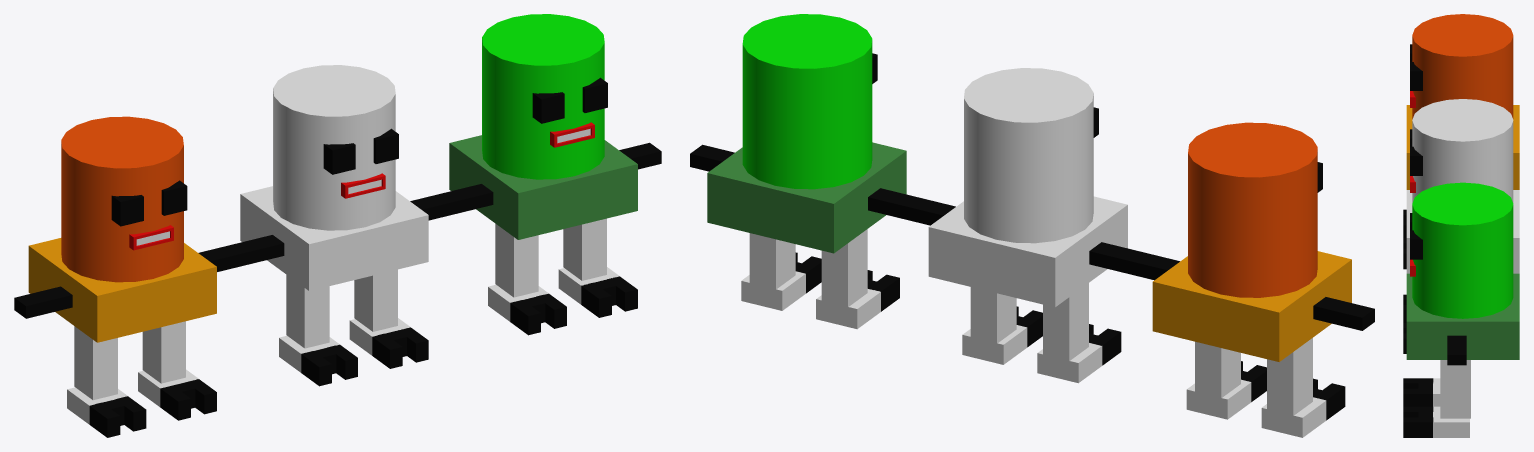
The picture shows the model from 3 angles, left to right: view 1: azimuth 30°, elevation 25°; view 2: azimuth 150°, elevation 25°; view 3: azimuth 270°, elevation 25°; orthographic projection. The views are drawn at different scales.
Parts seen in each view (by area): view 1: pCylinder74, pCylinder75, pCylinder54, pCube2473, pCube2489, pCube275, pCube276, pCube2474, pCube2490, pCube2475, pCube2491, pCube277 (+33 smaller); view 2: pCylinder75, pCylinder54, pCylinder74, pCube275, pCube2473, pCube2489, pCube2490, pCube276, pCube2474, pCube2475, pCube2491, pCube277 (+15 smaller); view 3: pCylinder75, pCylinder54, pCylinder74, pCube2489, pCube2491, pCube275, pCube2473, pCube2499, pCube2498, pCube2500, pCube2494, pCube2488 (+5 smaller).
Boxes of the visible parts, left/top/right/bottom form: pCylinder74: left=273, top=65, right=395, bottom=230; pCylinder75: left=482, top=14, right=604, bottom=179; pCylinder54: left=61, top=116, right=183, bottom=282; pCube2473: left=240, top=186, right=428, bottom=290; pCube2489: left=449, top=135, right=637, bottom=239; pCube275: left=28, top=238, right=216, bottom=342; pCube276: left=74, top=326, right=117, bottom=400; pCube2474: left=286, top=274, right=329, bottom=348; pCube2490: left=495, top=223, right=538, bottom=297; pCube2475: left=354, top=269, right=397, bottom=331; pCube2491: left=563, top=218, right=606, bottom=280; pCube277: left=142, top=321, right=185, bottom=383; pCylinder75: left=742, top=14, right=872, bottom=189; pCylinder54: left=1188, top=122, right=1317, bottom=297; pCylinder74: left=964, top=68, right=1093, bottom=243; pCube275: left=1152, top=251, right=1351, bottom=361; pCube2473: left=928, top=196, right=1127, bottom=307; pCube2489: left=707, top=142, right=906, bottom=253; pCube2490: left=821, top=229, right=867, bottom=307; pCube276: left=1267, top=338, right=1312, bottom=415; pCube2474: left=1043, top=283, right=1088, bottom=361; pCube2475: left=970, top=287, right=1016, bottom=343; pCube2491: left=749, top=233, right=795, bottom=289; pCube277: left=1195, top=341, right=1240, bottom=398; pCylinder75: left=1412, top=182, right=1513, bottom=318; pCylinder54: left=1412, top=14, right=1513, bottom=119; pCylinder74: left=1412, top=99, right=1513, bottom=202; pCube2489: left=1406, top=273, right=1519, bottom=359; pCube2491: left=1440, top=360, right=1470, bottom=418; pCube275: left=1406, top=105, right=1519, bottom=189; pCube2473: left=1406, top=190, right=1519, bottom=273; pCube2499: left=1433, top=406, right=1469, bottom=437; pCube2498: left=1403, top=417, right=1433, bottom=437; pCube2500: left=1447, top=335, right=1466, bottom=365; pCube2494: left=1403, top=388, right=1432, bottom=406; pCube2488: left=1410, top=230, right=1422, bottom=259.
Size of the model in its own units: 20.15 by 7.77 by 3.88.
